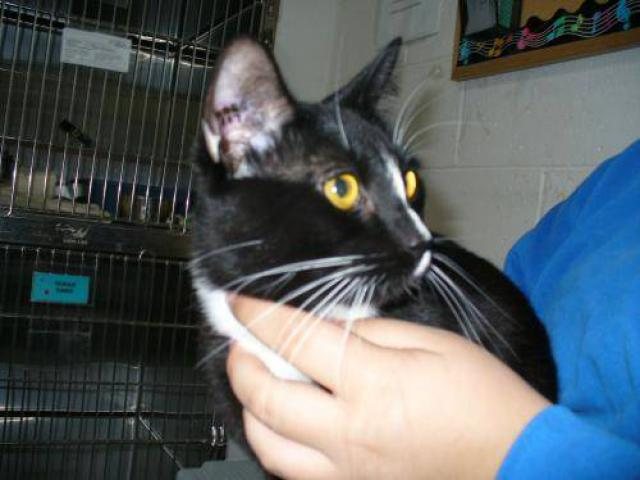cat: (161, 40, 535, 370)
